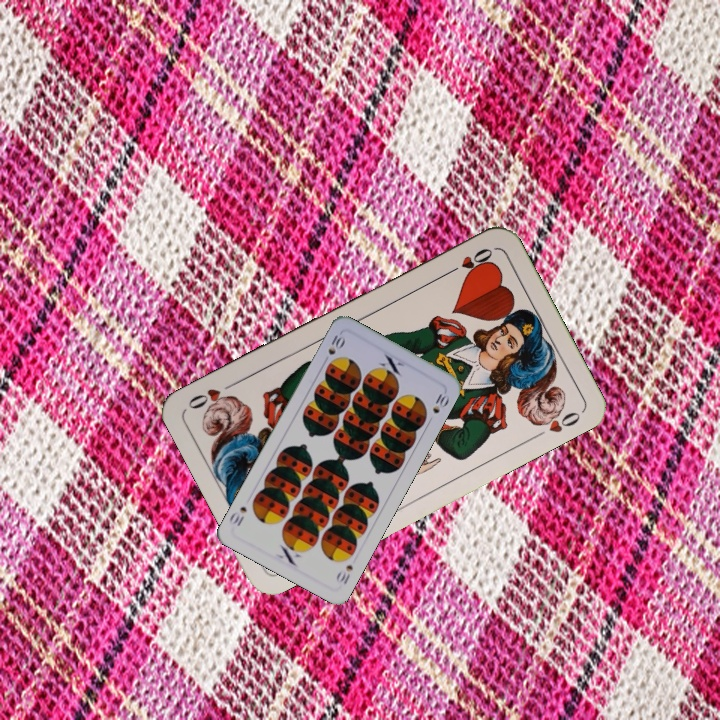HO: (441, 244, 496, 278)
S10: (324, 331, 348, 357), (332, 561, 355, 587)
